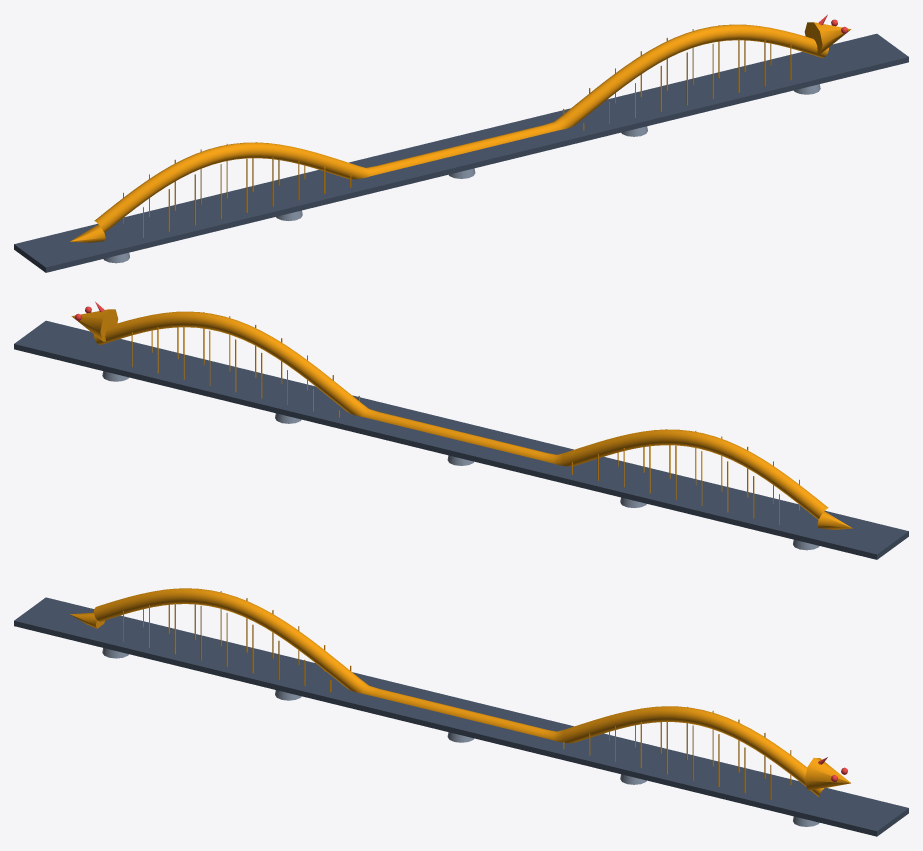
Rendered from dragon_bridge.glb.
The picture shows the model from 3 angles, top to bottom: view 1: azimuth 30°, elevation 25°; view 2: azimuth 150°, elevation 25°; view 3: azimuth 330°, elevation 25°; orthographic projection.
Bounding box in the file's own units: 500 × 46.99 × 32.
